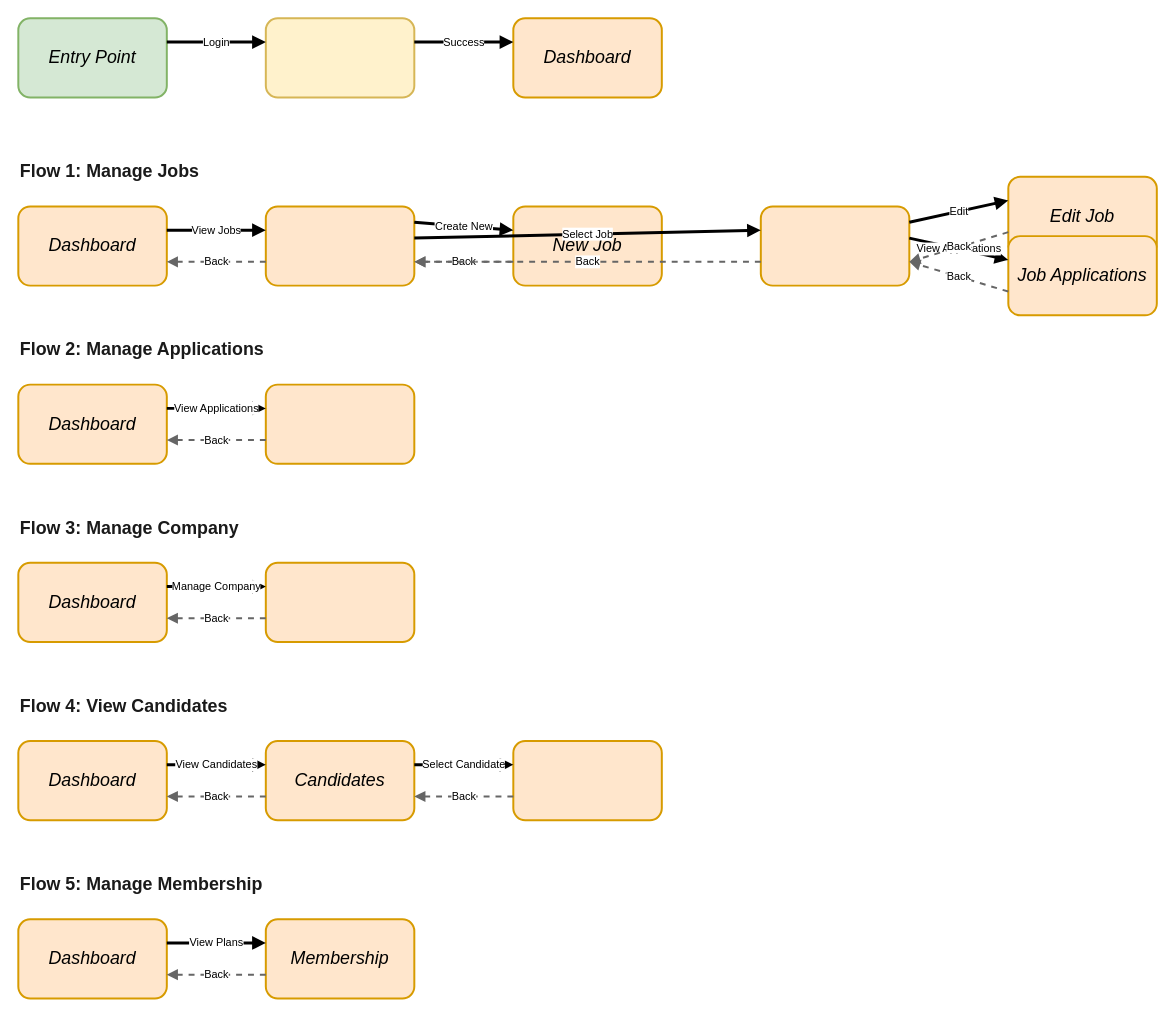
This 1174x1016 diagram has some shape labels left out. Here are the shapes that lost their labels. From the top down, the centre of each, then its label:
At point 339,57: "Staff Login".
At point 339,245: "Jobs".
At point 834,245: "Job Detail".
At point 339,423: "Applications".
At point 339,602: "Company".
At point 587,780: "Candidate Profile".
